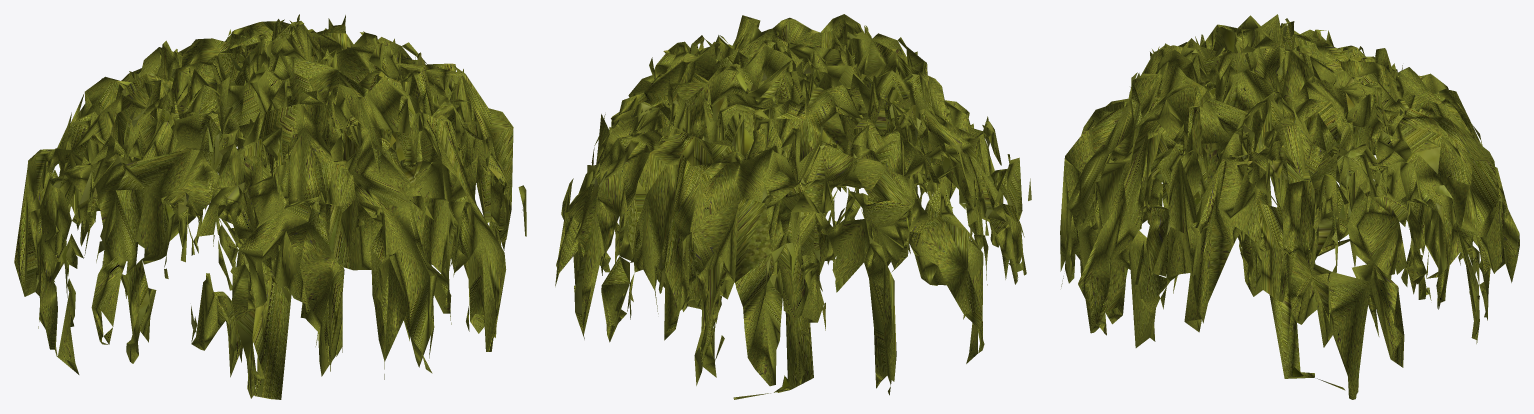
Rendered from lib_willow.lod.glb.
3 views of the same model, side by side, from view 1: azimuth 30°, elevation 25°; view 2: azimuth 150°, elevation 25°; view 3: azimuth 270°, elevation 25° (orthographic). The views are drawn at different scales.
Parts seen in each view (by area): view 1: output_unwrapped; view 2: output_unwrapped; view 3: output_unwrapped.
Boxes of the visible parts, box(x1,y1,x2,y2) form: output_unwrapped: box(14, 14, 526, 399); output_unwrapped: box(555, 14, 1031, 399); output_unwrapped: box(1060, 14, 1519, 399).
Size of the model in its own units: 1.94 by 1.57 by 1.93.
1 material, 1 textured.
